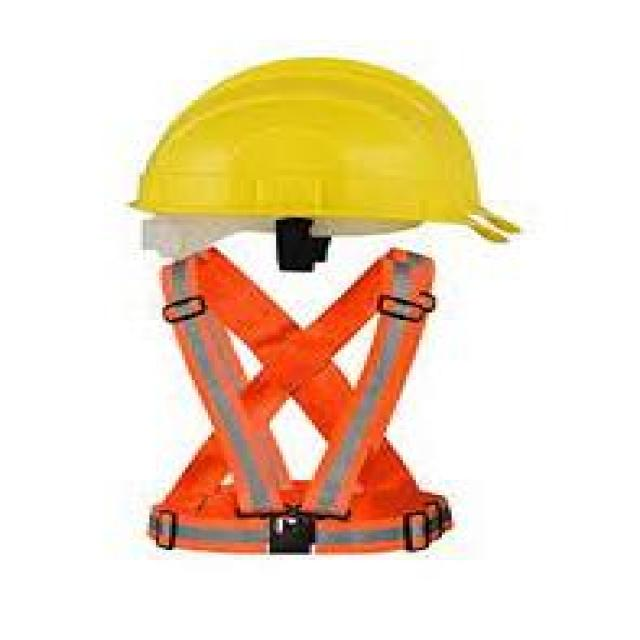Safety-Helmet: (117, 52, 529, 238)
